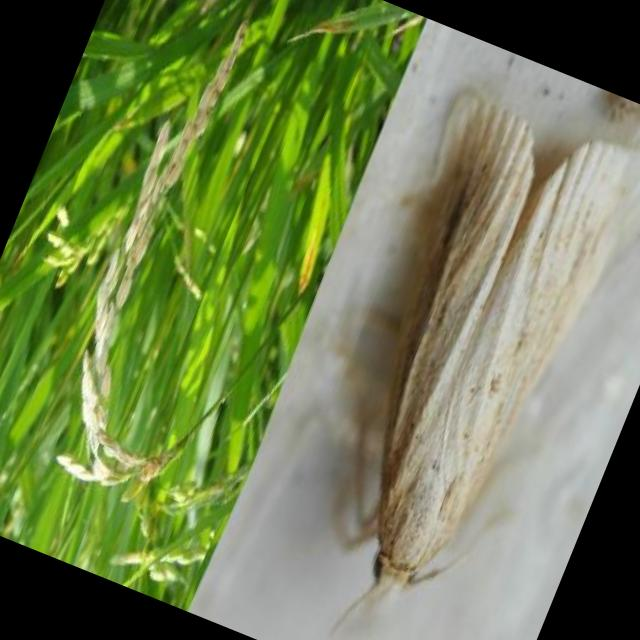stem-borer: (265, 86, 640, 640)
